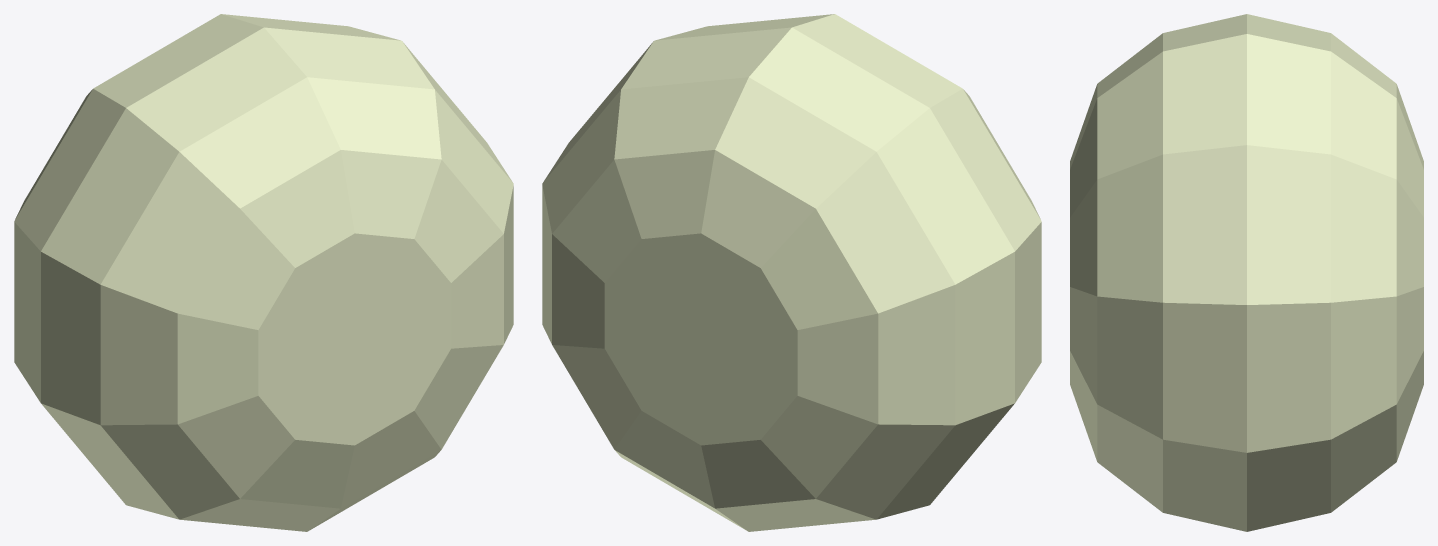
File: Lychee Piece.fbx
3 views of the same model, side by side, from view 1: azimuth 30°, elevation 25°; view 2: azimuth 150°, elevation 25°; view 3: azimuth 270°, elevation 25° (orthographic). The views are drawn at different scales.
Parts seen in each view (by area): view 1: Lychee Piece; view 2: Lychee Piece; view 3: Lychee Piece.
Boxes of the visible parts, left/top/right/bottom form: Lychee Piece: left=14, top=14, right=513, bottom=531; Lychee Piece: left=542, top=14, right=1041, bottom=531; Lychee Piece: left=1070, top=14, right=1423, bottom=531.
Size of the model in its own units: 6.8 by 7.15 by 4.79.
